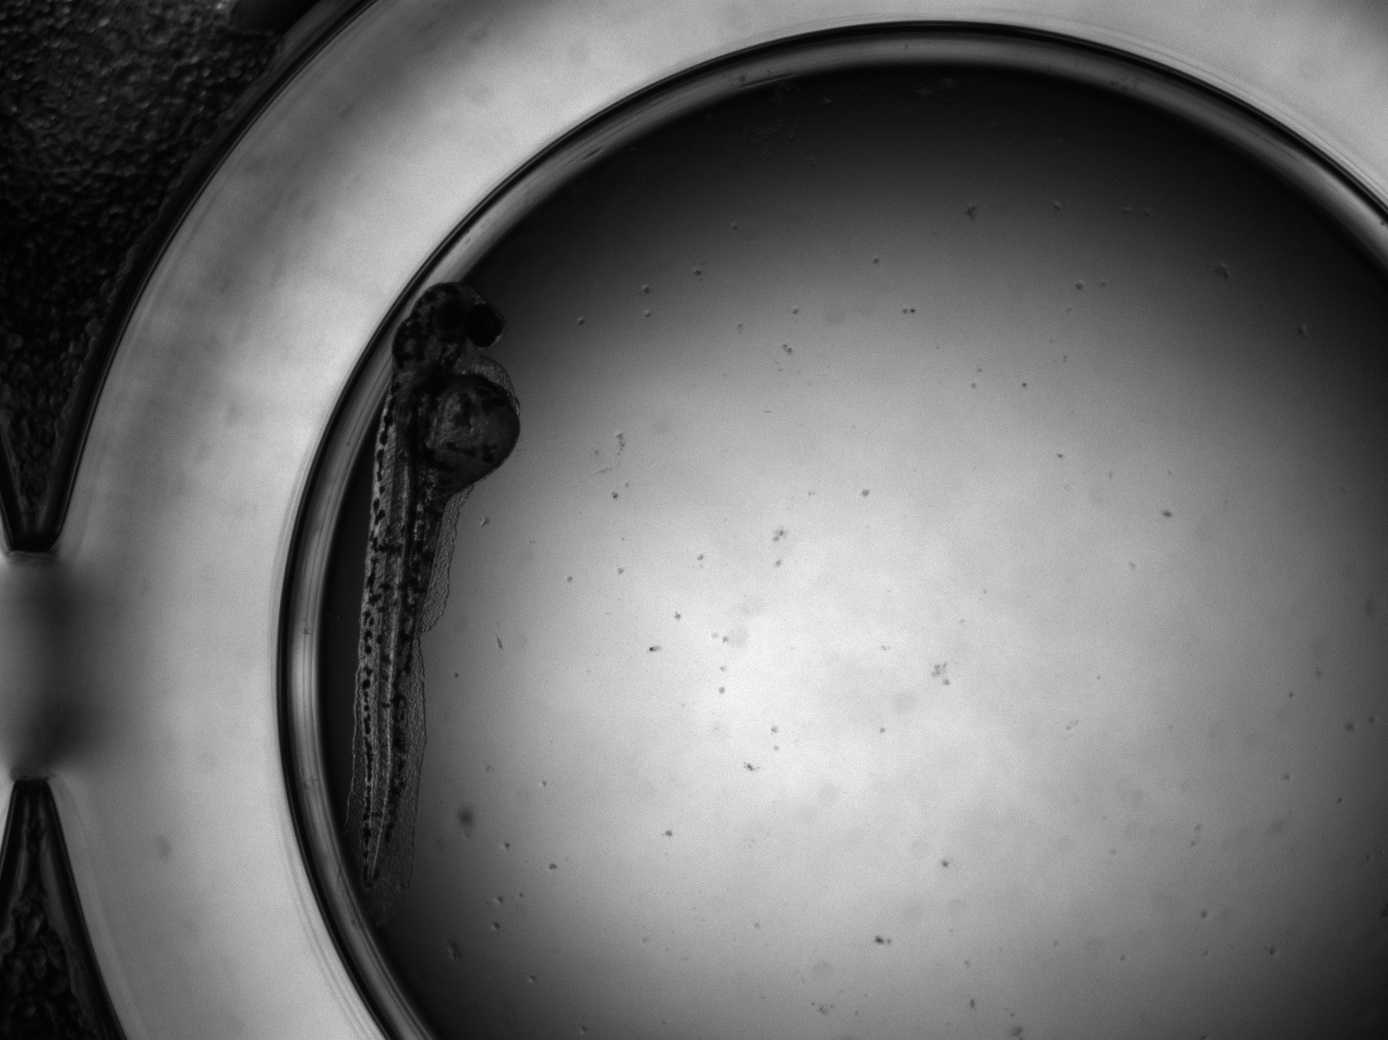embryo: (355, 280, 521, 890)
eye: (468, 302, 505, 348), (436, 298, 466, 340)
yolksac: (406, 371, 522, 491)
